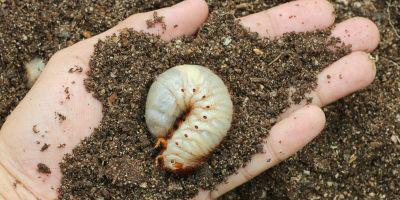grub: (147, 62, 233, 166)
